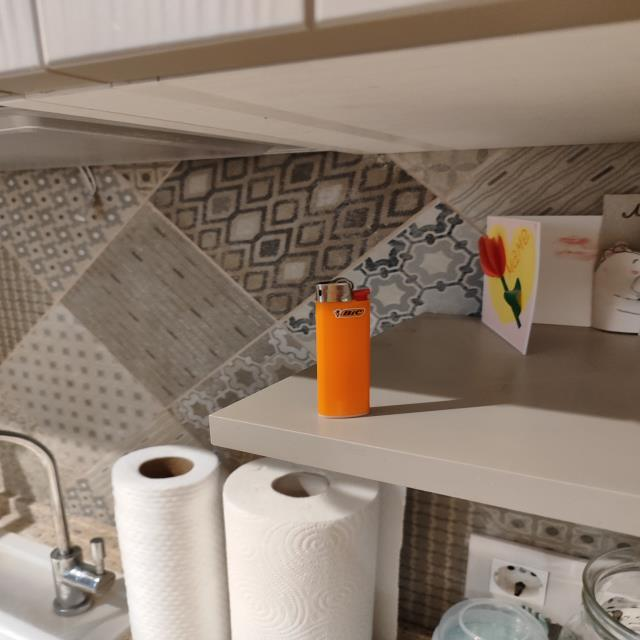lighter: (316, 278, 369, 417)
